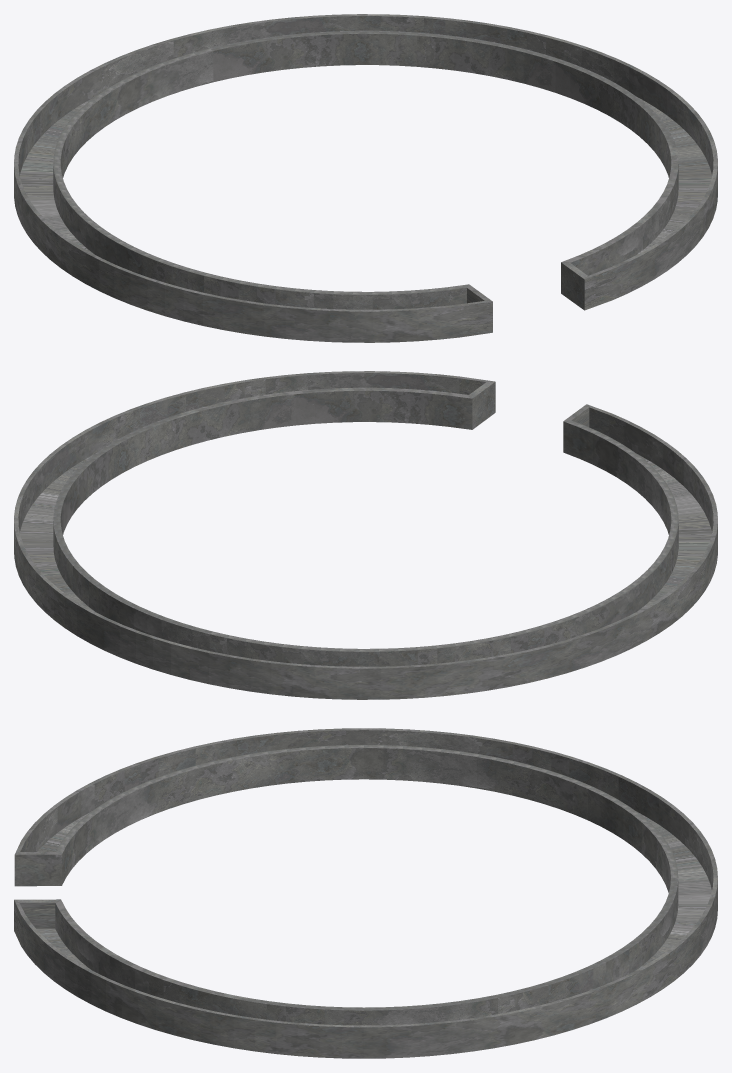
File: Baksteen.fbx
3 views of the same model, one above another, from view 1: azimuth 30°, elevation 25°; view 2: azimuth 150°, elevation 25°; view 3: azimuth 270°, elevation 25° (orthographic).
Parts seen in each view (by area): view 1: Baksteen; view 2: Baksteen; view 3: Baksteen.
Boxes of the visible parts, x1=… form: Baksteen: x1=14, y1=14, x2=717, y2=342; Baksteen: x1=14, y1=371, x2=717, y2=699; Baksteen: x1=14, y1=728, x2=717, y2=1058.
Size of the model in its own units: 20.24 by 0.9919 by 20.13.
